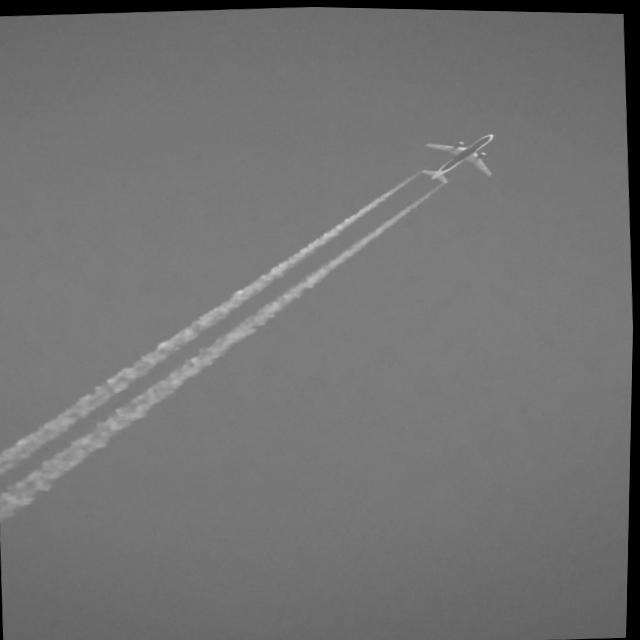aeroplane: (406, 126, 503, 187)
